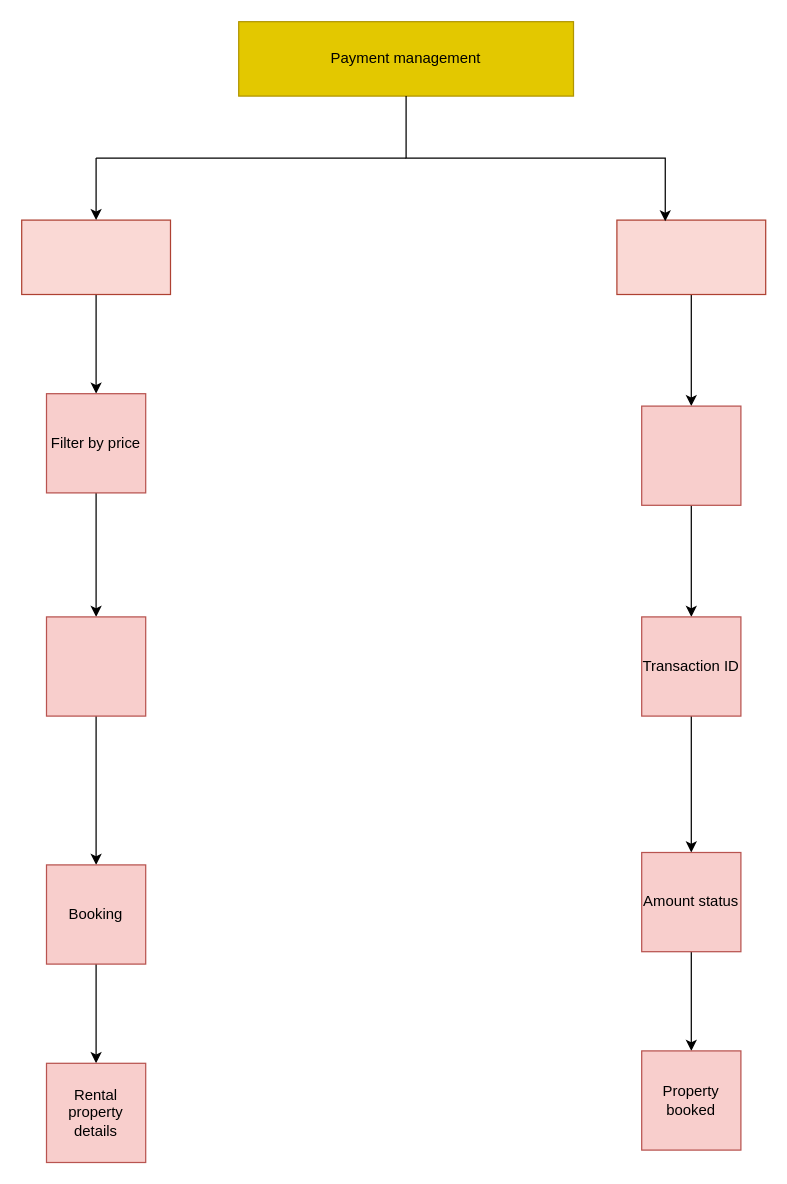
Some shapes in this 787 by 1184 pixel diagram are drawn without their labels. Here are the shapes that lost their labels. From the top down, the box of each, then its label:
(20, 219, 170, 294): user login
(616, 219, 766, 294): payment
(640, 405, 741, 505): user payment details
(45, 616, 146, 716): Filter by area
